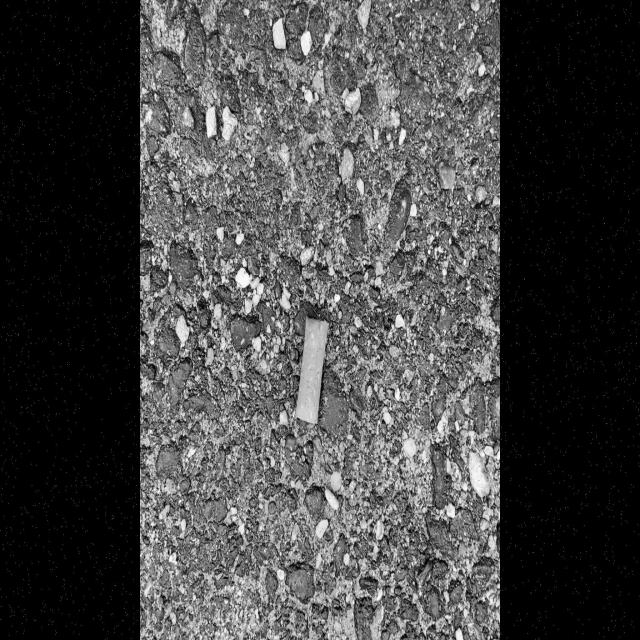other waste: (294, 314, 330, 425)
